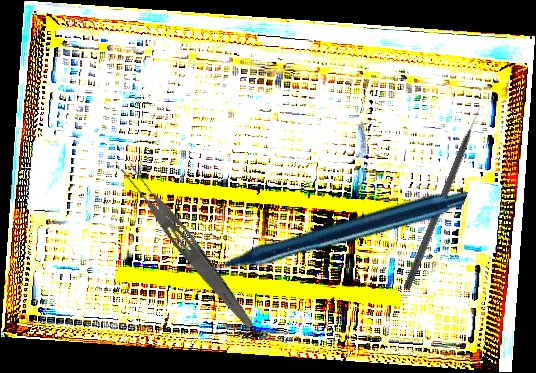Dressing Forceps: (116, 159, 262, 333)
Handpiece: (185, 107, 469, 352)
Hook Surgical: (403, 103, 486, 292)
